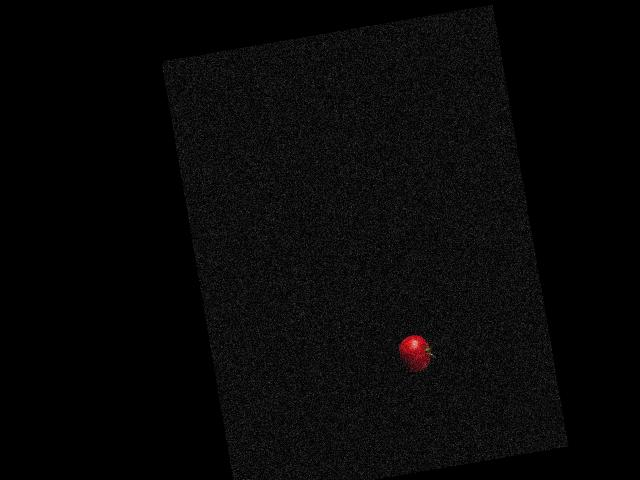tomato: (396, 333, 433, 374)
